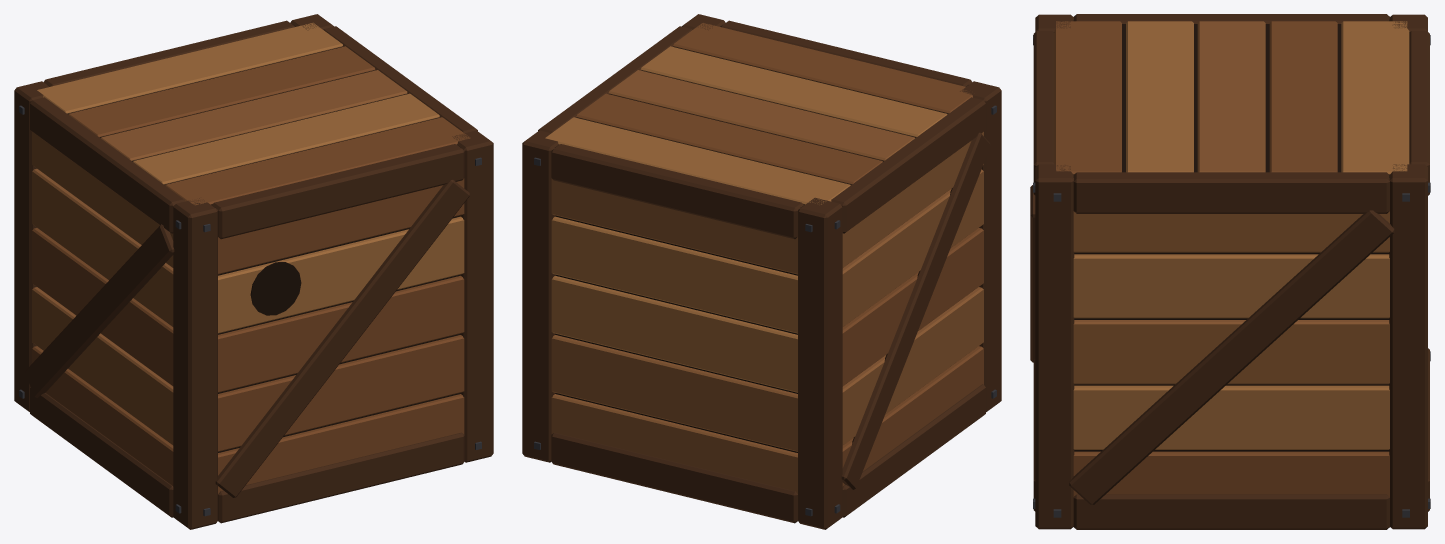
File: crate.obj
3 views of the same model, side by side, from view 1: azimuth 30°, elevation 25°; view 2: azimuth 150°, elevation 25°; view 3: azimuth 270°, elevation 25° (orthographic). The views are drawn at different scales.
Parts seen in each view (by area): view 1: box.026, box.002, box.003, box.038, box.004, box.028, box.034, box.024, box.023, box.022, box.025, box.021 (+16 smaller); view 2: box.009, box.007, box.008, box.027, box.006, box.029, box.035, box.022, box.023, box.024, box.021, box.010 (+14 smaller); view 3: box.018, box.019, box.017, box.039, box.028, box.029, box.037, box.016, box.033, box.020, box.023, box.024 (+10 smaller).
Boxes of the visible parts, <box> form: box.026: <box>173,198,217,529</box>; box.002: <box>218,335,464,451</box>; box.003: <box>218,275,464,392</box>; box.038: <box>215,179,469,497</box>; box.004: <box>218,216,464,333</box>; box.028: <box>452,130,493,462</box>; box.034: <box>212,144,464,239</box>; box.024: <box>68,46,375,137</box>; box.023: <box>101,70,407,160</box>; box.022: <box>133,93,439,184</box>; box.025: <box>37,22,342,113</box>; box.021: <box>165,117,470,205</box>; box.009: <box>551,216,797,333</box>; box.007: <box>551,335,797,451</box>; box.008: <box>551,275,797,392</box>; box.027: <box>798,197,842,529</box>; box.006: <box>551,394,797,493</box>; box.029: <box>522,130,558,462</box>; box.035: <box>551,144,803,239</box>; box.022: <box>640,46,947,137</box>; box.023: <box>608,70,914,160</box>; box.024: <box>576,93,882,184</box>; box.021: <box>673,23,972,113</box>; box.010: <box>551,178,797,274</box>; box.018: <box>1073,320,1389,384</box>; box.019: <box>1073,254,1389,318</box>; box.017: <box>1073,385,1389,449</box>; box.039: <box>1069,210,1394,504</box>; box.028: <box>1035,164,1074,529</box>; box.029: <box>1389,164,1427,529</box>; box.037: <box>1073,172,1389,213</box>; box.016: <box>1073,451,1389,496</box>; box.033: <box>1073,494,1389,529</box>; box.020: <box>1073,211,1389,252</box>; box.023: <box>1197,21,1265,172</box>; box.024: <box>1269,21,1337,172</box>.
Bounding box in the file's own units: 0.624 × 0.6 × 0.62.
